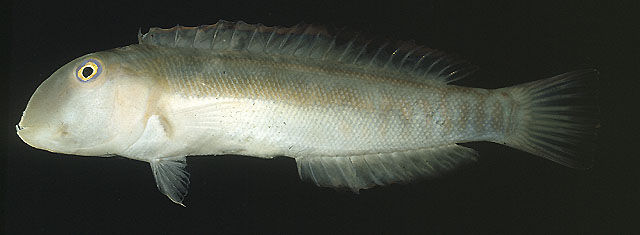fish: (16, 19, 599, 207)
